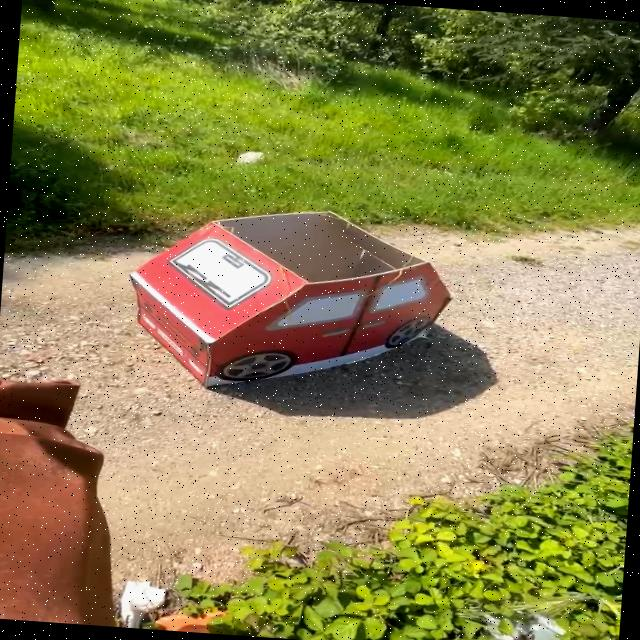red_car: (87, 189, 472, 422)
